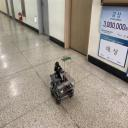cart: (49, 71, 75, 105)
